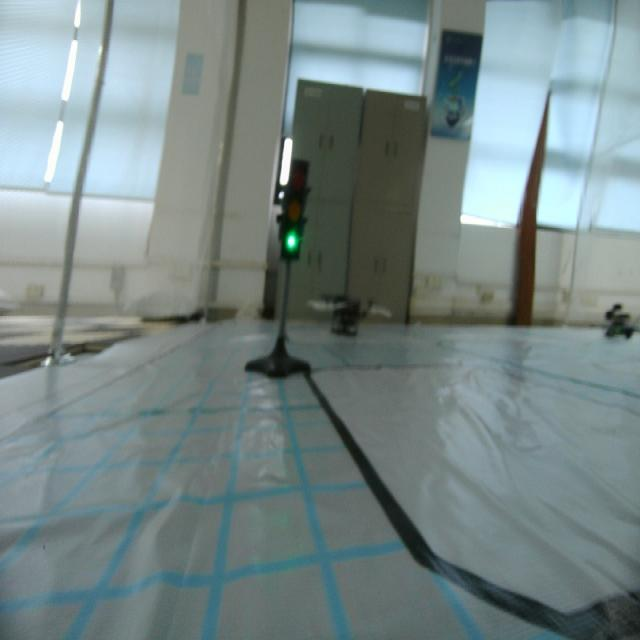green: (283, 158, 305, 262)
